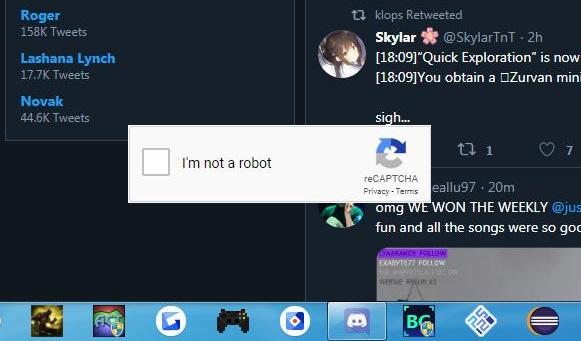captcha: (142, 148, 277, 176)
